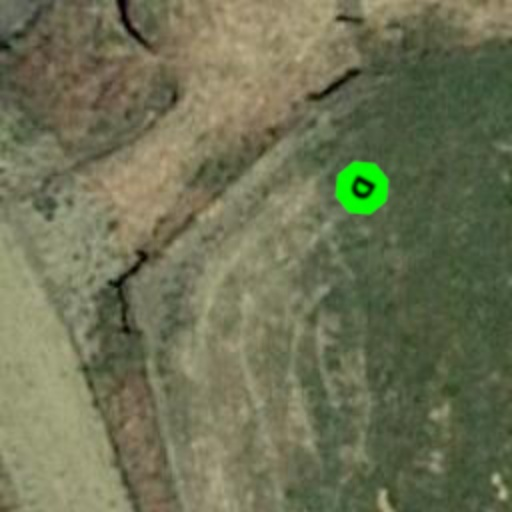octagon: (322, 148, 402, 228)
